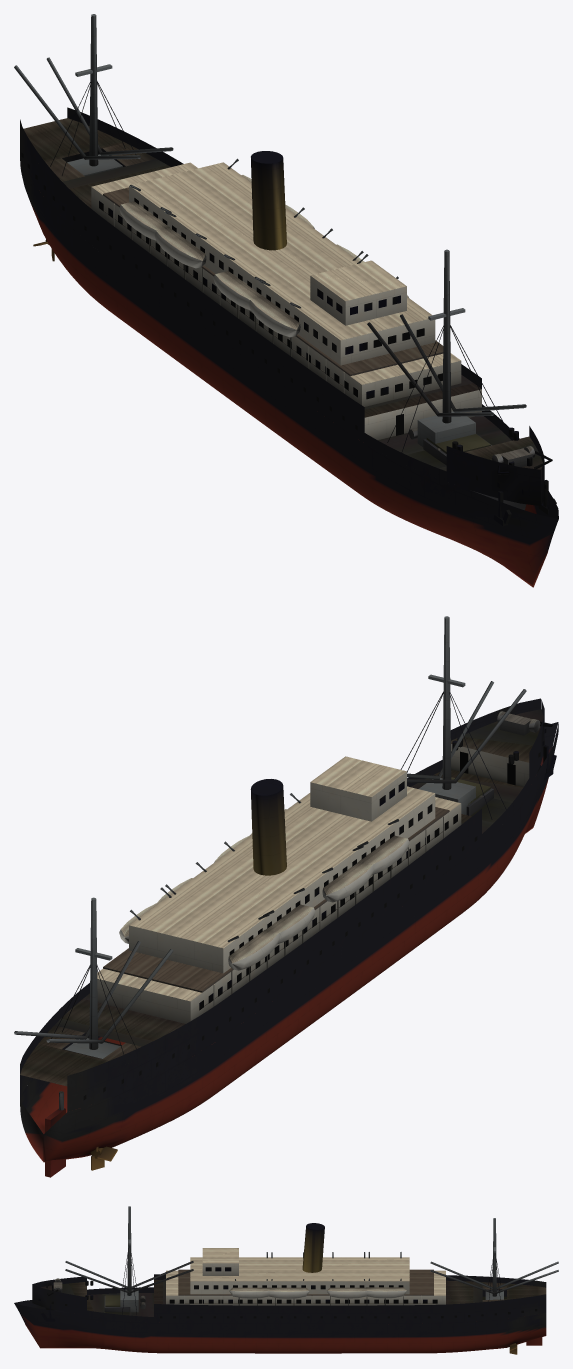
File: model_built.glb
The picture shows the model from 3 angles, top to bottom: view 1: azimuth 30°, elevation 25°; view 2: azimuth 150°, elevation 25°; view 3: azimuth 270°, elevation 25°; orthographic projection. The views are drawn at different scales.
Parts seen in each view (by area): view 1: main; view 2: main; view 3: main.
Boxes of the visible parts, <box> form: main: <box>14,14,558,587</box>; main: <box>14,616,558,1177</box>; main: <box>14,1206,558,1354</box>.
Bounding box in the file's own units: 13.05 × 25.66 × 89.56.
Materials: 2 (2 with a texture image).
